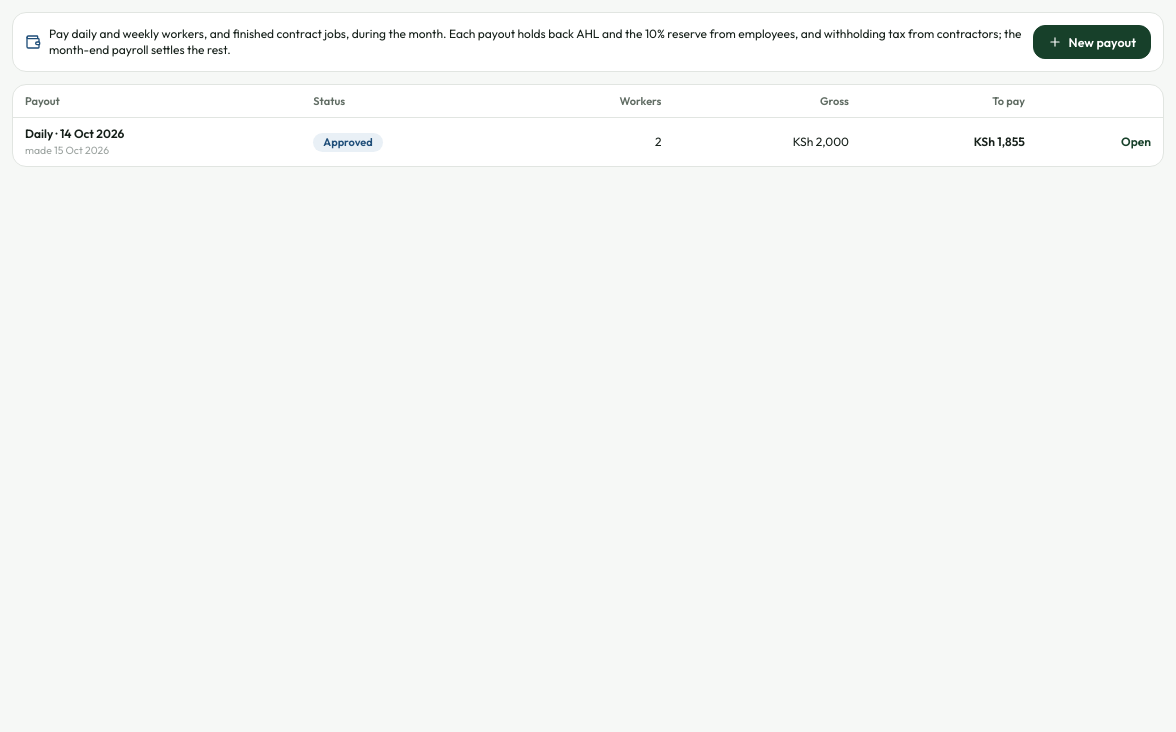
Test case: an approved payout › downloads the bank, Equity and M-Pesa files, lists problems, and is marked exported
Later steps or results of the test are not shown.
Click the button with aria-label "Open Daily payout". click: (1136, 142)
box: [1121, 134, 1151, 150]
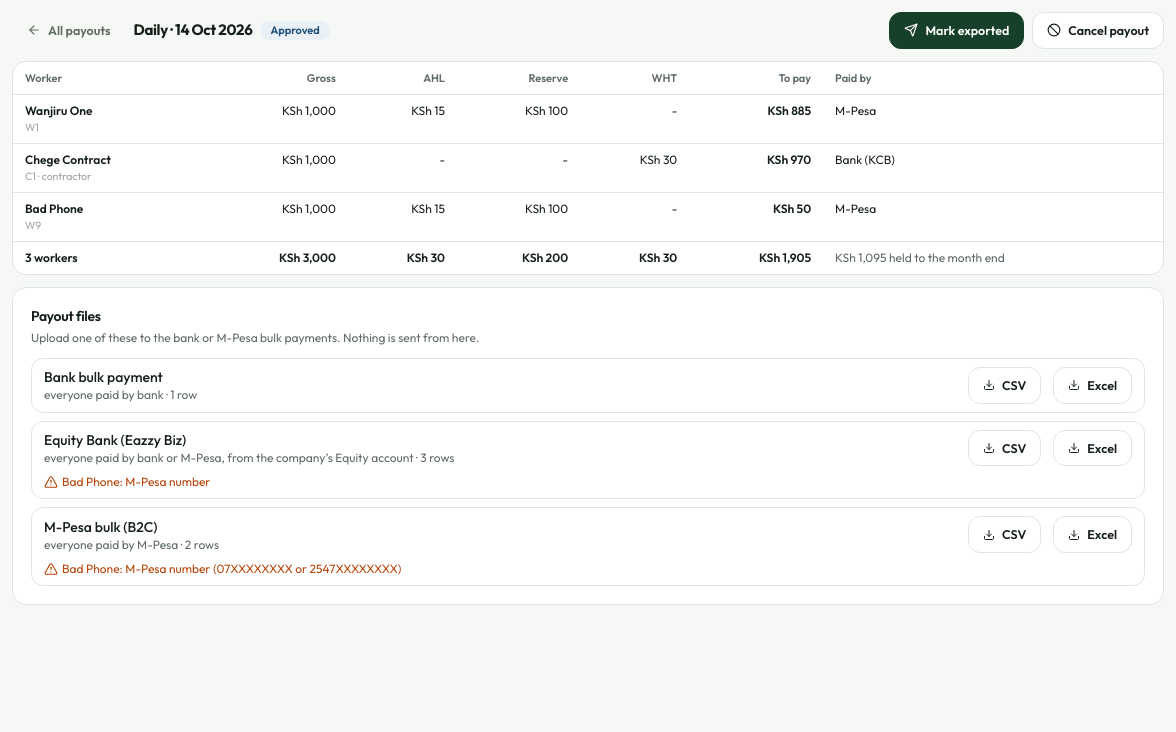
Now the list item "Bad Phone: M-Pesa number (07XXXXXXXX or 2547XXXXXXXX)" is shown, box [44, 561, 402, 576]
Click the button with aria-label "M-Pesa bulk (B2C) CSV". click: (1005, 535)
box: [968, 516, 1041, 553]
Click the button with aria-label "Bank bulk payment Excel". click: (1093, 385)
box: [1053, 367, 1132, 404]
Now the button with aria-label "Equity Bank (Eazzy Biz) CSV" is enabled, box [968, 430, 1041, 466]
